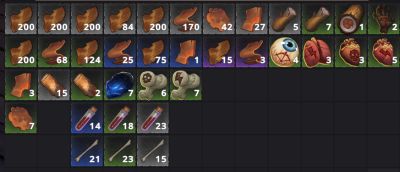blood: (138, 104, 169, 133), (72, 103, 102, 132), (105, 104, 135, 132)
bone: (72, 136, 103, 165), (137, 136, 168, 165), (106, 136, 134, 165)
durable hide: (4, 3, 37, 34), (203, 36, 234, 67), (6, 37, 37, 67), (137, 3, 167, 33), (138, 36, 168, 66), (39, 4, 69, 33), (72, 4, 101, 34), (105, 4, 134, 34), (73, 38, 101, 67)
flexible hide: (105, 37, 135, 68), (237, 37, 267, 67), (170, 3, 200, 33), (40, 37, 69, 67)
oak log: (73, 70, 102, 98), (40, 71, 68, 99)
soft leather: (6, 100, 37, 133), (203, 3, 233, 33)
spruce heartwood: (335, 4, 365, 34)
spruce log: (303, 4, 331, 33), (271, 4, 298, 33)
strong hide: (170, 37, 200, 68), (7, 71, 37, 99), (237, 4, 265, 33)
